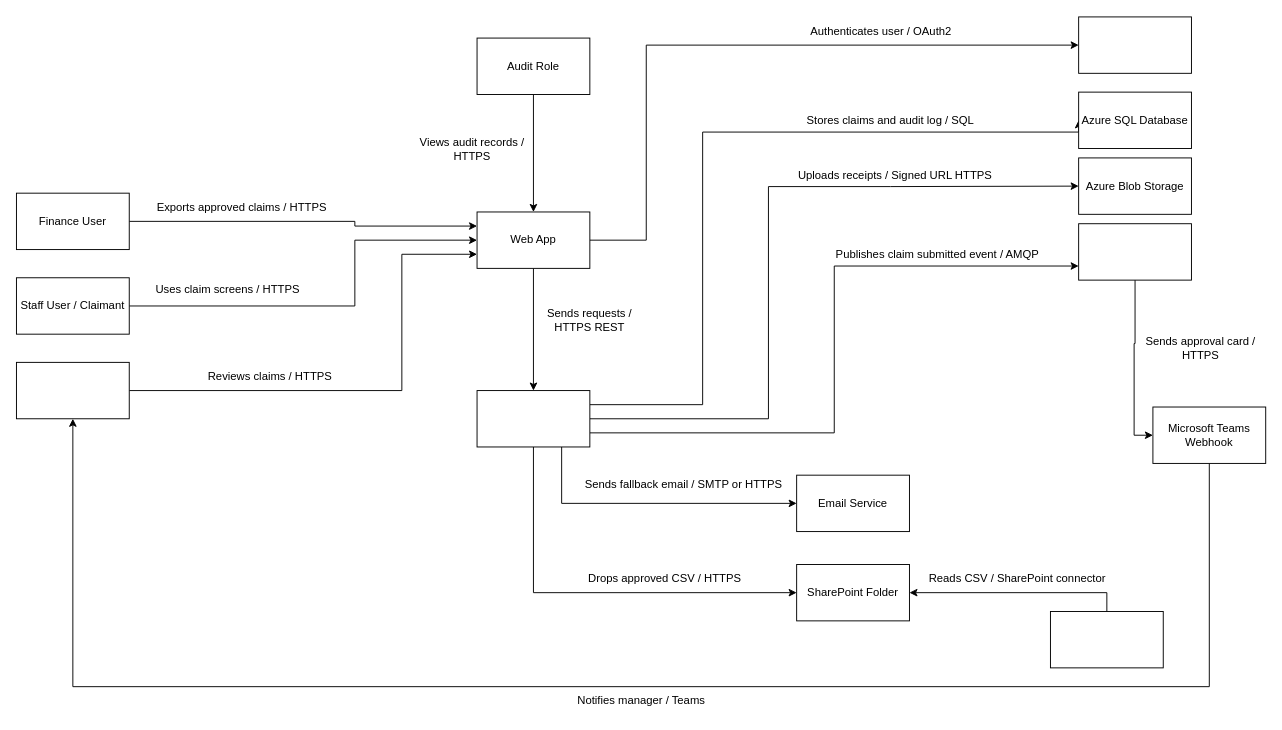
Some shapes in this 1282 by 730 pixel diagram are drawn without their labels. The centre of each missing label's shape, as x and y in pixels:
"Azure Service Bus" goes at pixel 1134 251.
"Claims API" goes at pixel 533 418.
"Line Manager" goes at pixel 72 390.
"Microsoft Entra ID" goes at pixel 1134 44.
"Payroll Automation" goes at pixel 1106 639.
